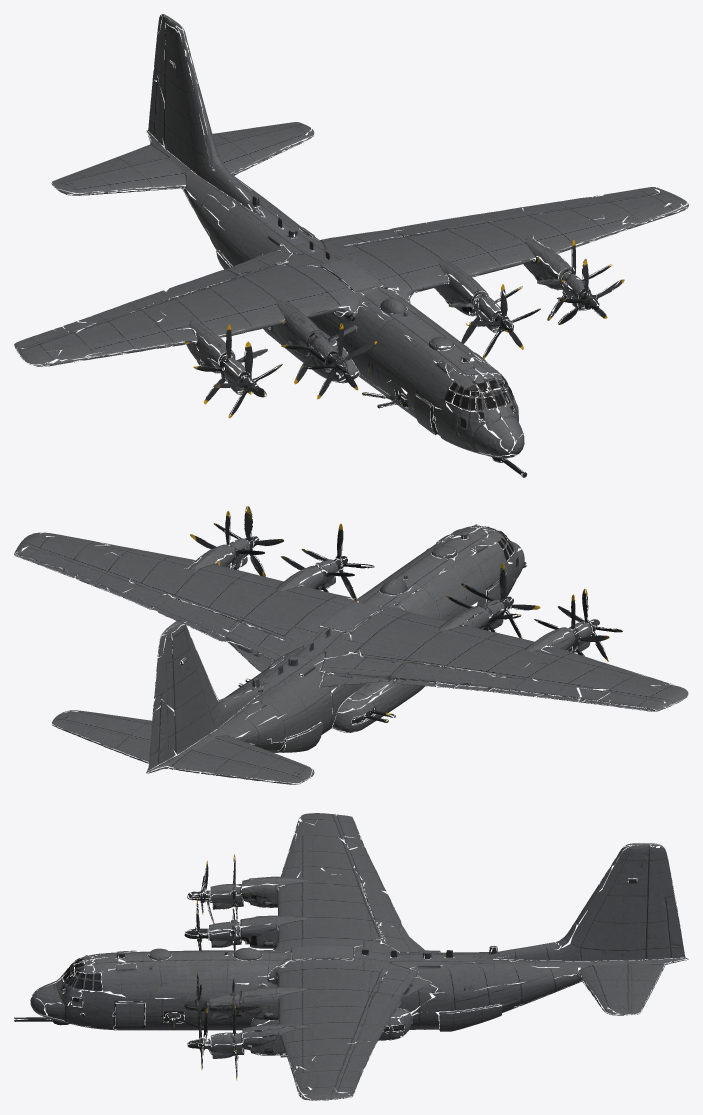
Rendered from c130-armored.glb.
3 renders of one model, top to bottom at view 1: azimuth 30°, elevation 25°; view 2: azimuth 150°, elevation 25°; view 3: azimuth 270°, elevation 25°, orthographic. The views are drawn at different scales.
Size of the model in its own units: 1.9 by 0.5634 by 1.89.
Materials: 1 (1 with a texture image).
